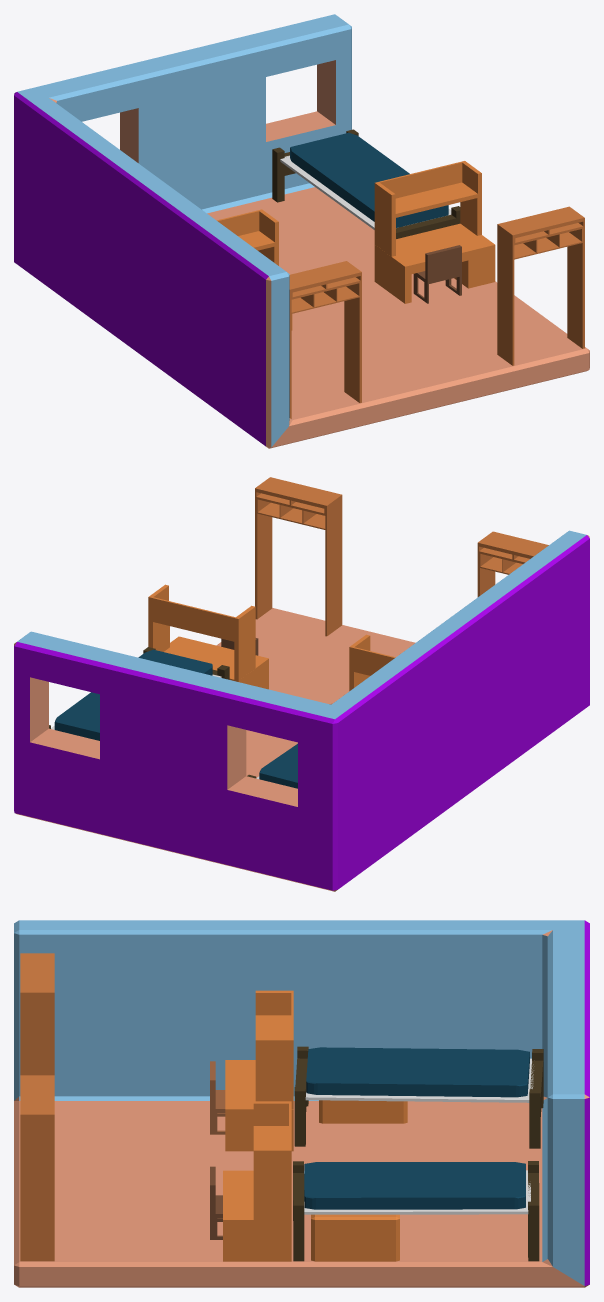
Rendered from double_room.glb.
3 views of the same model, one above another, from view 1: azimuth 30°, elevation 25°; view 2: azimuth 150°, elevation 25°; view 3: azimuth 270°, elevation 25° (orthographic). The views are drawn at different scales.
Visible parts, largest first — view 1: Plane, Table.001, Closet1.001, Mattress.001, Closet1.002, Table, Chair.003, Metal Frame.001, Bed Frame.004, Bed Frame.005; view 2: Plane, Closet1.001, Table.001, Closet1.002, Mattress.001, Table, Mattress; view 3: Plane, Mattress, Mattress.001, Table.001, Table, Closet1.001, Closet1.002, Drawer.001, Drawer, Metal Frame, Metal Frame.001, Bed Frame.003 (+5 smaller).
Part boxes in pixels (x1=…): Plane: x1=14, y1=14, x2=589, y2=448; Table.001: x1=374, y1=161, x2=495, y2=303; Closet1.001: x1=497, y1=206, x2=584, y2=365; Mattress.001: x1=290, y1=132, x2=448, y2=227; Closet1.002: x1=289, y1=261, x2=361, y2=418; Table: x1=217, y1=209, x2=292, y2=330; Chair.003: x1=413, y1=245, x2=461, y2=303; Metal Frame.001: x1=280, y1=155, x2=451, y2=229; Bed Frame.004: x1=396, y1=206, x2=460, y2=238; Bed Frame.005: x1=272, y1=129, x2=358, y2=202; Plane: x1=14, y1=530, x2=589, y2=891; Closet1.001: x1=255, y1=477, x2=342, y2=636; Table.001: x1=148, y1=584, x2=268, y2=689; Closet1.002: x1=477, y1=531, x2=548, y2=596; Mattress.001: x1=54, y1=649, x2=212, y2=740; Table: x1=349, y1=634, x2=395, y2=690; Mattress: x1=259, y1=743, x2=297, y2=788; Plane: x1=14, y1=920, x2=589, y2=1287; Mattress: x1=306, y1=1047, x2=529, y2=1097; Mattress.001: x1=304, y1=1162, x2=525, y2=1209; Table.001: x1=223, y1=1101, x2=291, y2=1261; Table: x1=225, y1=990, x2=293, y2=1151; Closet1.001: x1=20, y1=1075, x2=54, y2=1261; Closet1.002: x1=20, y1=953, x2=54, y2=1075; Drawer.001: x1=311, y1=1214, x2=399, y2=1261; Drawer: x1=319, y1=1100, x2=407, y2=1123; Metal Frame: x1=305, y1=1058, x2=533, y2=1102; Metal Frame.001: x1=304, y1=1170, x2=530, y2=1214; Bed Frame.003: x1=529, y1=1049, x2=543, y2=1148.
Bounding box in the file's own units: 7.97 × 4.06 × 10.94.
